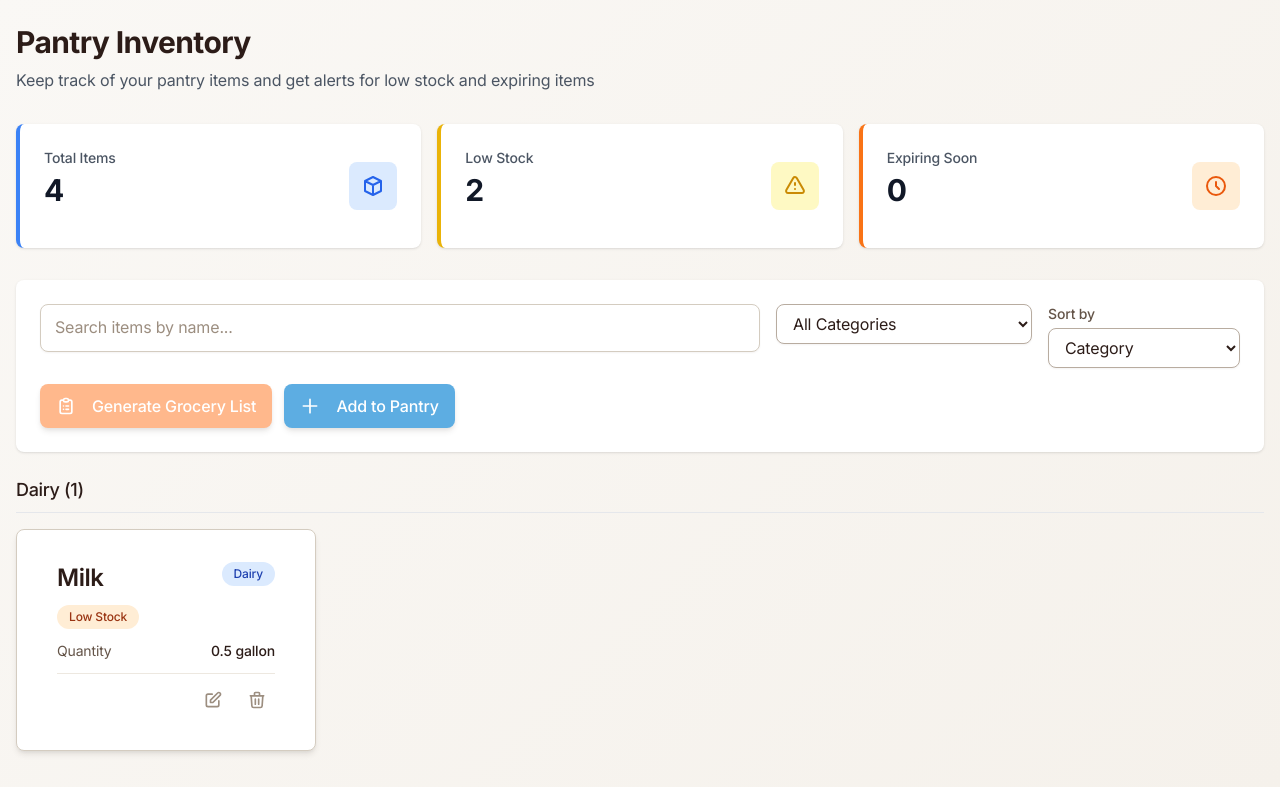
Test: PantryPage - Sort Functionality › should display "Other Items" section when Low Stock sort is selected and there are non-low-stock items
The image size is (1280, 787).
Expected: the heading "Milk" is shown, [57,563,104,592]
Select "Low Stock" in the dropdown labelled "Sort by": (1144, 348) [1048,328,1240,368]
(page scrolled)
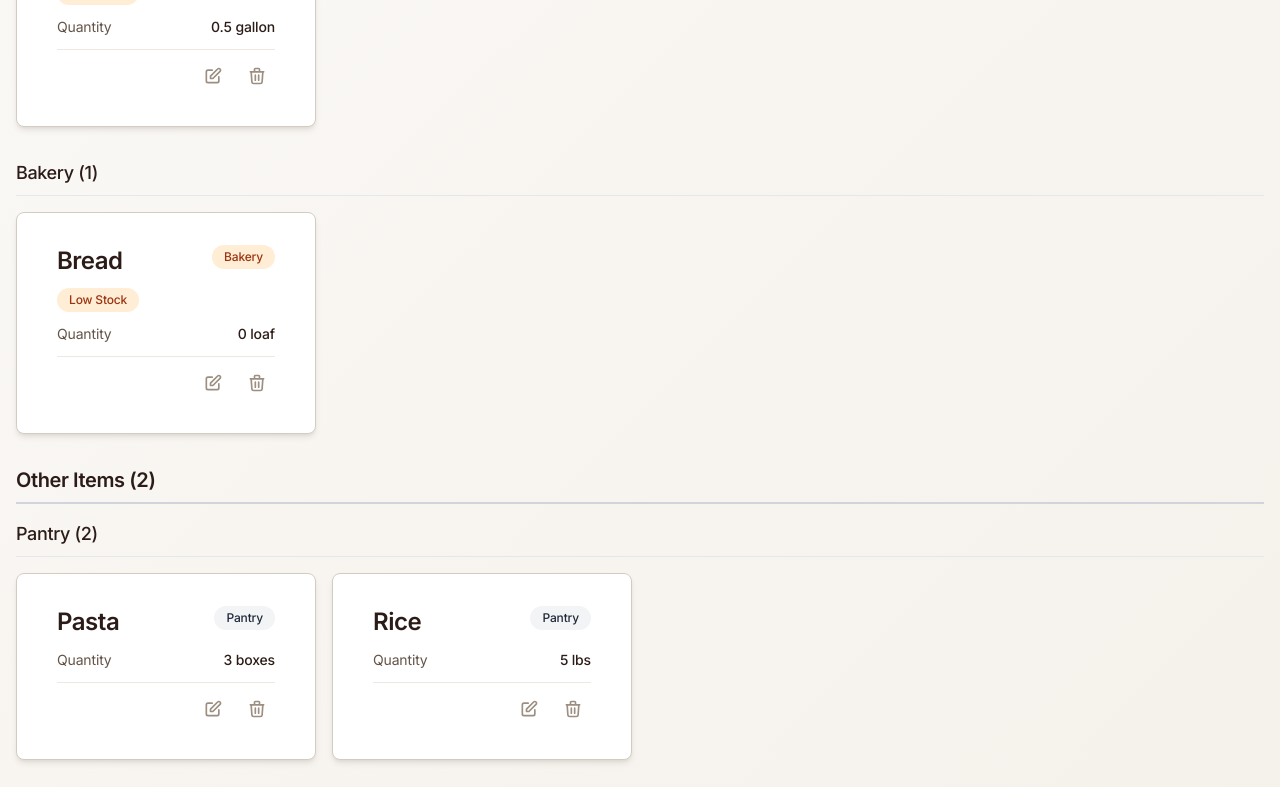
Expected: the heading "Other Items (2)" is shown, [16,466,1264,504]
